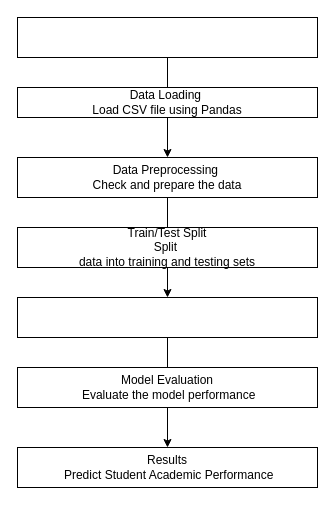
Some shapes in this 335 by 505 pixel diagram are drawn without their labels. Here are the shapes that lost their labels. From the top down, the box of each, then its label:
(16, 16, 318, 58): Dataset Selection Higher Education Students Performance Dataset
(16, 296, 318, 338): Model Training Train a Classification Model
